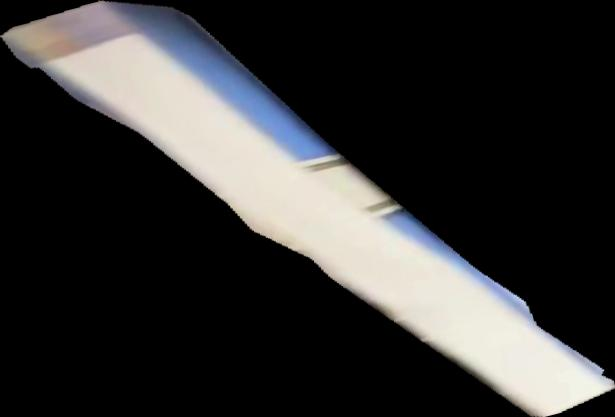backward: (1, 1, 615, 417)
